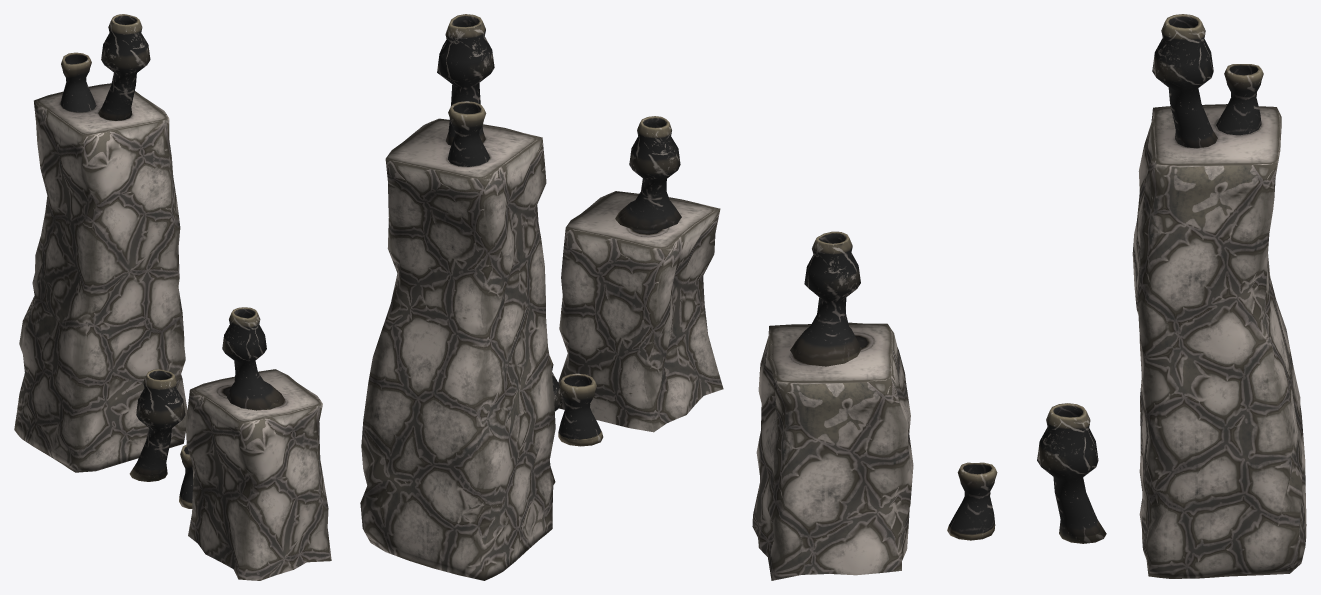
Rendered from Chimney.fbx.
The picture shows the model from 3 angles, left to right: view 1: azimuth 30°, elevation 25°; view 2: azimuth 150°, elevation 25°; view 3: azimuth 270°, elevation 25°; orthographic projection. The views are drawn at different scales.
Parts seen in each view (by area): view 1: Chimney, Chimney.001, Chimney.005, Chimney.004; view 2: Chimney, Chimney.001, Chimney.004; view 3: Chimney, Chimney.001, Chimney.005, Chimney.004.
Boxes of the visible parts, <box> form: Chimney: <box>14,14,187,472</box>; Chimney.001: <box>185,307,331,580</box>; Chimney.005: <box>129,369,185,481</box>; Chimney.004: <box>179,444,193,508</box>; Chimney: <box>360,14,555,580</box>; Chimney.001: <box>558,116,723,432</box>; Chimney.004: <box>558,373,603,446</box>; Chimney: <box>1132,14,1306,578</box>; Chimney.001: <box>752,231,913,580</box>; Chimney.005: <box>1037,403,1106,543</box>; Chimney.004: <box>947,462,997,540</box>.
Size of the model in its own units: 104 by 355 by 334.
